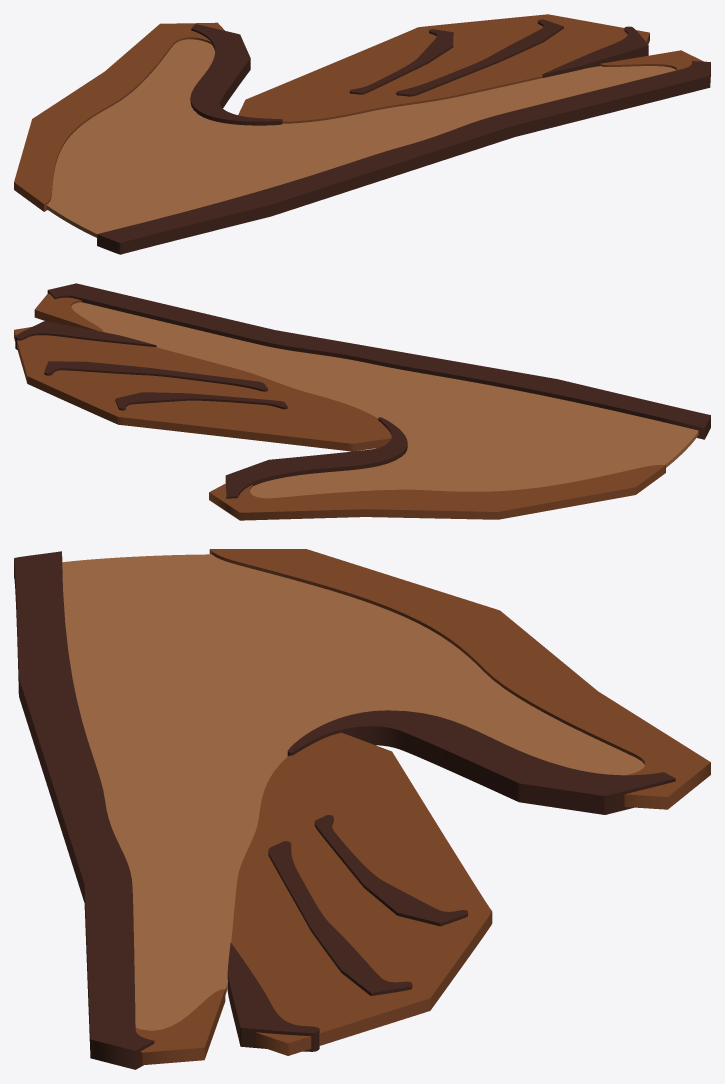
Rendered from emoji_u1faf4_1f3fe.glb.
3 renders of one model, top to bottom at view 1: azimuth 30°, elevation 25°; view 2: azimuth 150°, elevation 25°; view 3: azimuth 270°, elevation 25°, orthographic. The views are drawn at different scales.
Visible parts, largest first — view 1: emoji_u1faf4_1f3fe; view 2: emoji_u1faf4_1f3fe; view 3: emoji_u1faf4_1f3fe.
Boxes of the visible parts, x1,y1,x2,y2 form: emoji_u1faf4_1f3fe: (14,14,710,254); emoji_u1faf4_1f3fe: (14,283,710,520); emoji_u1faf4_1f3fe: (14,549,710,1069).
Bounding box in the file's own units: 0.0343 × 0.0006 × 0.02.
